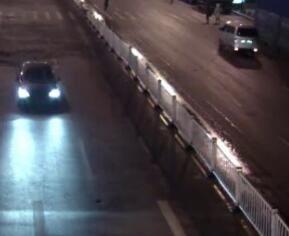car: (14, 57, 64, 113), (214, 18, 264, 55)
